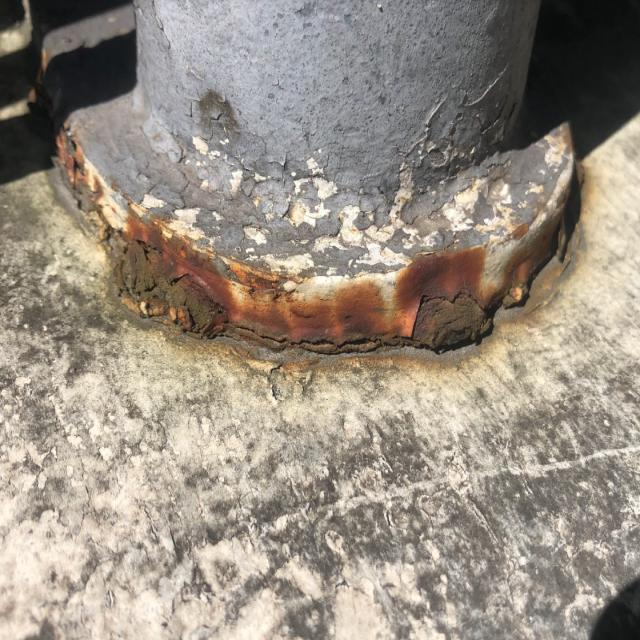Corrosion: (30, 0, 580, 358)
